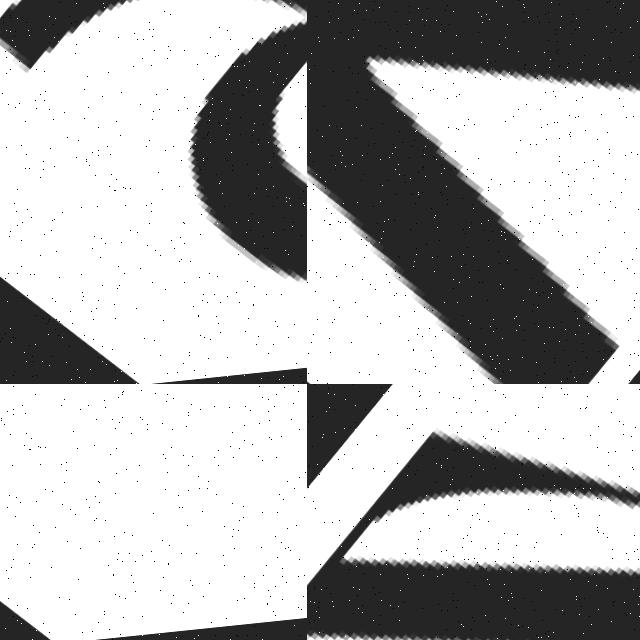9: (0, 0, 307, 384)
I: (0, 384, 307, 630)
V: (307, 0, 640, 384)
Z: (307, 384, 640, 640)
